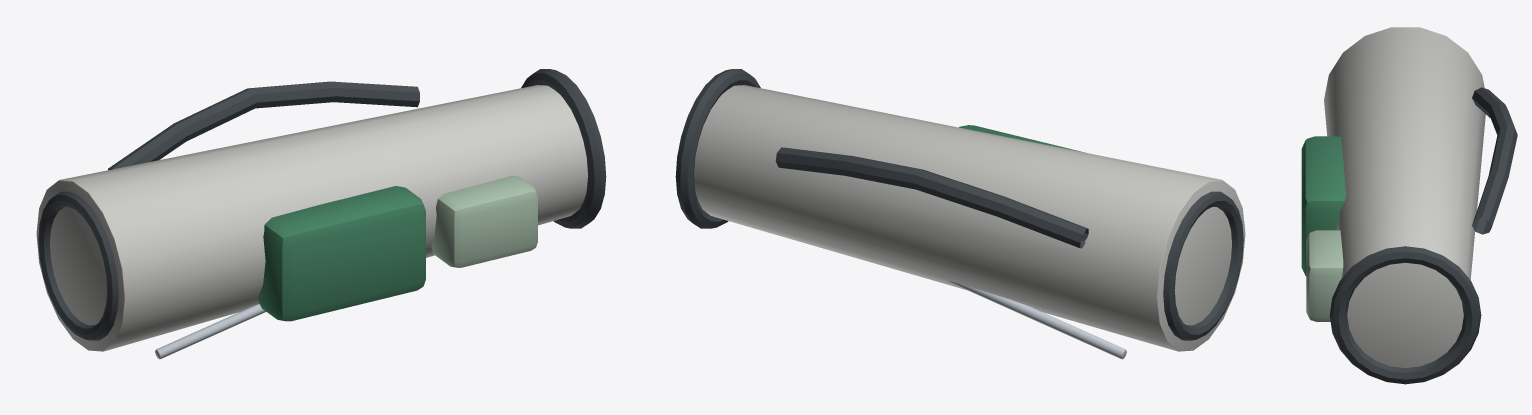
The model's file is checkout_product_stand_bag.glb.
3 views of the same model, side by side, from view 1: azimuth 30°, elevation 25°; view 2: azimuth 150°, elevation 25°; view 3: azimuth 270°, elevation 25° (orthographic). The views are drawn at different scales.
Parts seen in each view (by area): view 1: StandBagBody, StandBagPocket, StandBagBallPocket, StandBagShoulderStrap, StandBagBaseRim, StandBagTopRim, StandLeg_1; view 2: StandBagBody, StandBagShoulderStrap, StandBagBaseRim, StandBagTopRim, StandLeg_2; view 3: StandBagBody, StandBagTopRim, StandBagPocket, StandBagShoulderStrap, StandBagBallPocket.
Part boxes in pixels (<box>): StandBagBody: <box>36,85,587,351</box>; StandBagPocket: <box>258,186,425,321</box>; StandBagBallPocket: <box>431,175,537,267</box>; StandBagShoulderStrap: <box>108,81,419,170</box>; StandBagBaseRim: <box>38,191,118,340</box>; StandBagTopRim: <box>521,69,606,228</box>; StandLeg_1: <box>155,304,265,359</box>; StandBagBody: <box>694,85,1245,351</box>; StandBagShoulderStrap: <box>775,147,1088,248</box>; StandBagBaseRim: <box>1163,191,1243,340</box>; StandBagTopRim: <box>675,69,760,228</box>; StandLeg_2: <box>945,280,1126,359</box>; StandBagBody: <box>1324,27,1485,367</box>; StandBagTopRim: <box>1329,246,1481,384</box>; StandBagPocket: <box>1301,136,1346,276</box>; StandBagShoulderStrap: <box>1472,87,1517,234</box>; StandBagBallPocket: <box>1306,230,1343,321</box>.
Size of the model in its own units: 0.722 by 0.25 by 0.304.
